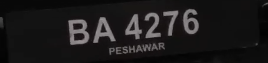BA4276: (6, 3, 265, 62)
